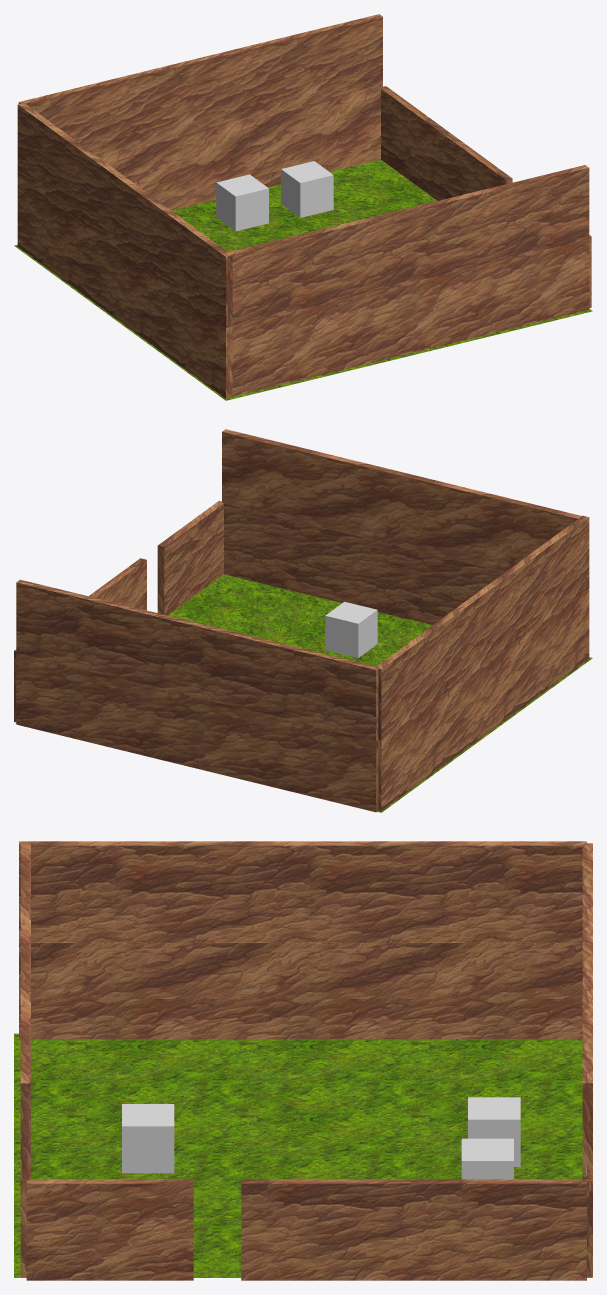
File: testlvlb.glb
3 renders of one model, top to bottom at view 1: azimuth 30°, elevation 25°; view 2: azimuth 150°, elevation 25°; view 3: azimuth 270°, elevation 25°, orthographic. The views are drawn at different scales.
Visible parts, largest first — view 1: Cube.014, Plane.001, Cube.020, Cube.022; view 2: Cube.014, Plane.001, Cube.021; view 3: Cube.014, Plane.001, Cube.021, Cube.022, Cube.020.
Part boxes in pixels (box(x1,y1,x2,y2)): Cube.014: box(17, 14, 591, 398); Plane.001: box(14, 159, 592, 400); Cube.020: box(281, 161, 333, 217); Cube.022: box(216, 174, 268, 231); Cube.014: box(14, 429, 589, 812); Plane.001: box(15, 574, 592, 812); Cube.021: box(325, 601, 377, 657); Cube.014: box(19, 841, 592, 1280); Plane.001: box(14, 1033, 591, 1277); Cube.021: box(122, 1104, 174, 1173); Cube.022: box(468, 1097, 520, 1166); Cube.020: box(461, 1138, 513, 1179).
Size of the model in its own units: 89.22 by 32.83 by 88.63.
2 materials, 2 textured.
